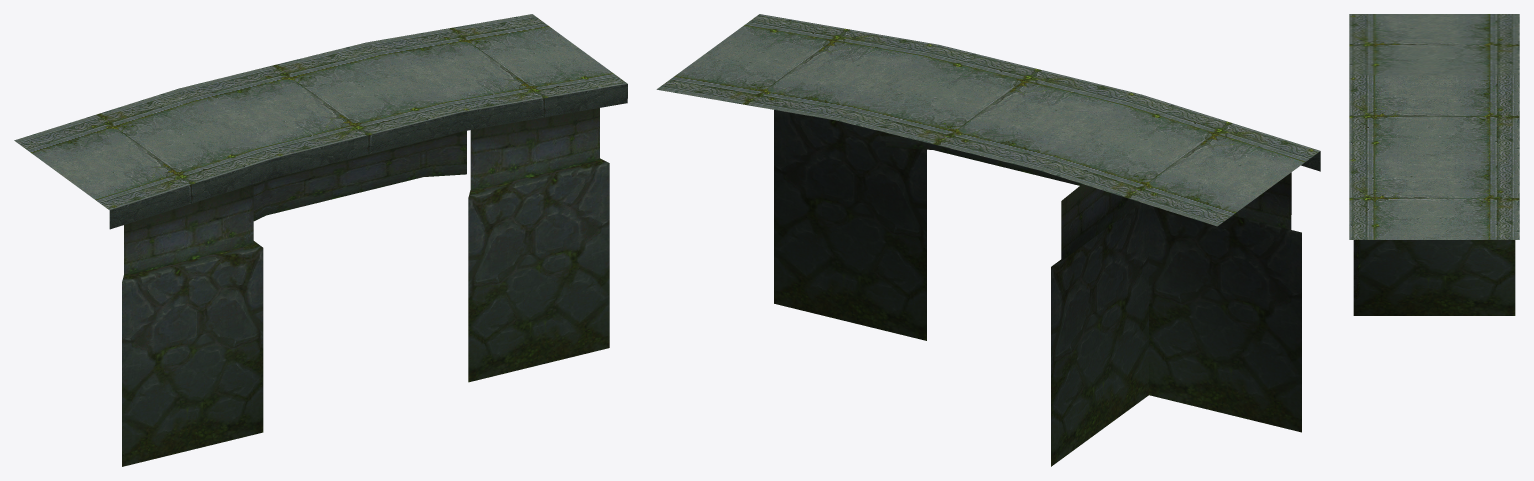
The model's file is zc_erhai_qiao01.FBX.
3 views of the same model, side by side, from view 1: azimuth 30°, elevation 25°; view 2: azimuth 150°, elevation 25°; view 3: azimuth 270°, elevation 25° (orthographic). The views are drawn at different scales.
Visible parts, largest first — view 1: zc_erhai_qiao01; view 2: zc_erhai_qiao01; view 3: zc_erhai_qiao01.
Boxes of the visible parts, left/top/right/bottom form: zc_erhai_qiao01: left=14, top=14, right=627, bottom=466; zc_erhai_qiao01: left=656, top=14, right=1320, bottom=466; zc_erhai_qiao01: left=1349, top=14, right=1519, bottom=315.
Bounding box in the file's own units: 1200 × 606 × 383.
